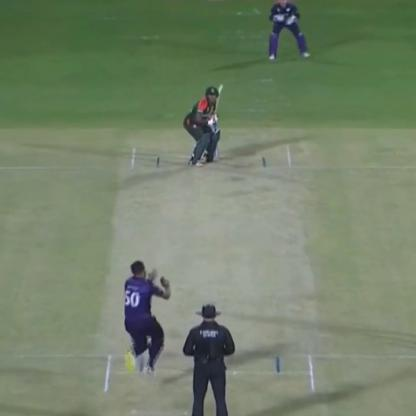bat: (202, 80, 227, 116)
pitch: (93, 123, 324, 408)
